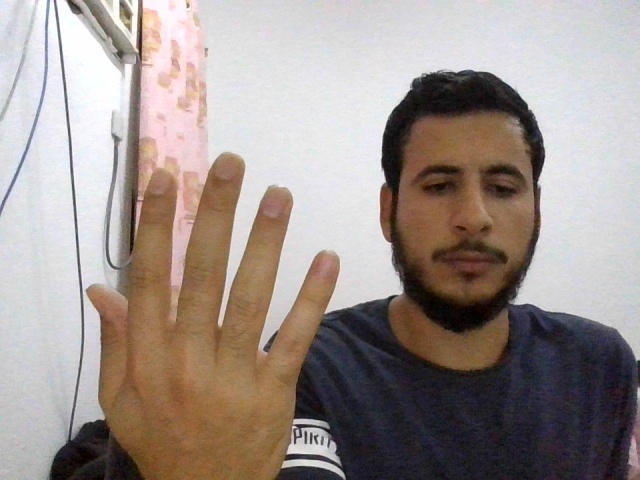Five: (84, 153, 340, 478)
